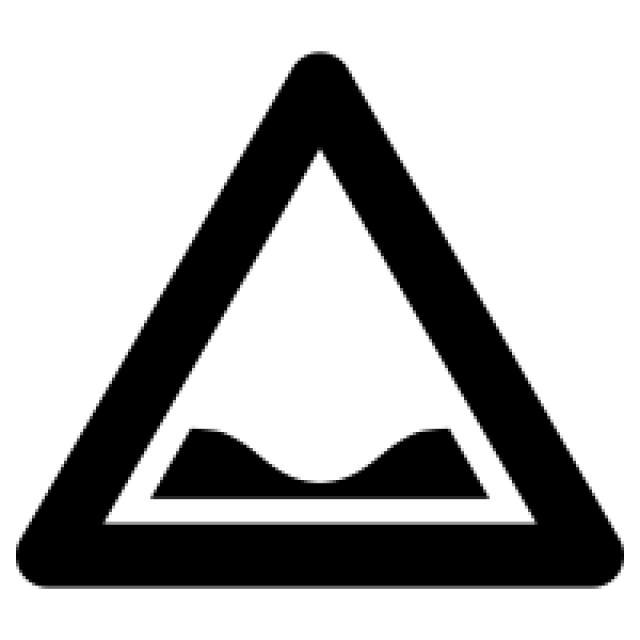dangerous dip: (22, 56, 612, 595)
